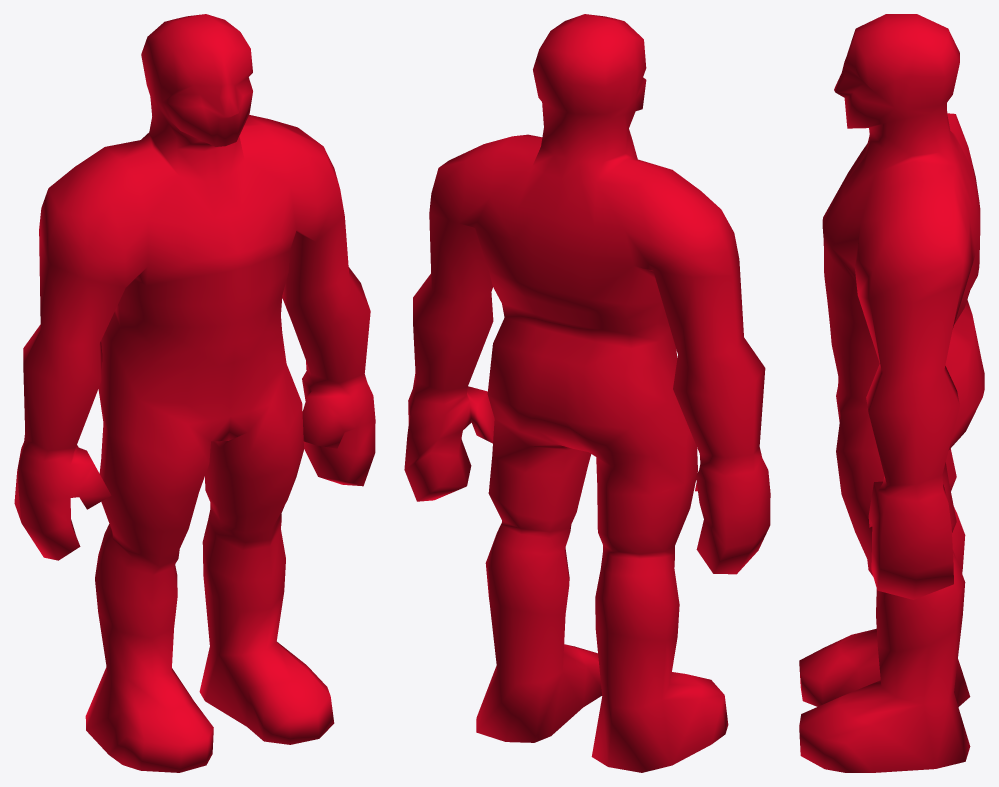
The model's file is player_red.fbx.
The picture shows the model from 3 angles, left to right: view 1: azimuth 30°, elevation 25°; view 2: azimuth 150°, elevation 25°; view 3: azimuth 270°, elevation 25°; orthographic projection.
Visible parts, largest first — view 1: Advanced1; view 2: Advanced1; view 3: Advanced1.
Boxes of the visible parts, left/top/right/bottom form: Advanced1: left=14, top=14, right=375, bottom=772; Advanced1: left=404, top=14, right=770, bottom=772; Advanced1: left=799, top=14, right=984, bottom=772.
Bounding box in the file's own units: 5 × 9.64 × 2.31.
